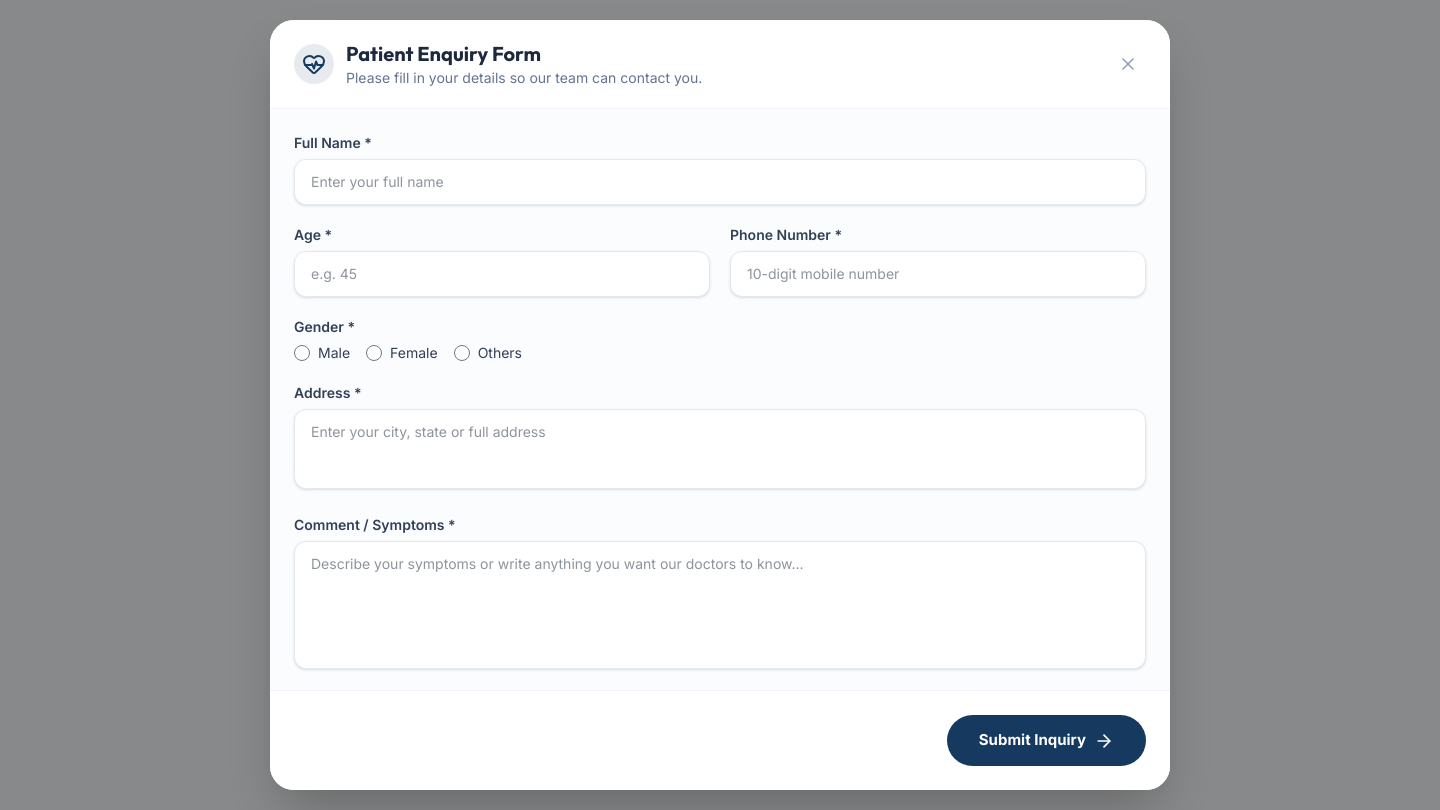
Test: PatientEnquiryForm submission › submits a valid enquiry to the real API and shows the reference number
Type "Meera Nair" into the field with placeholder "Enter your full name". click: (720,182)
box: [294, 159, 1146, 205]
Type "52" into the number field with placeholder "e.g. 45". click: (502,274)
box: [294, 251, 710, 297]
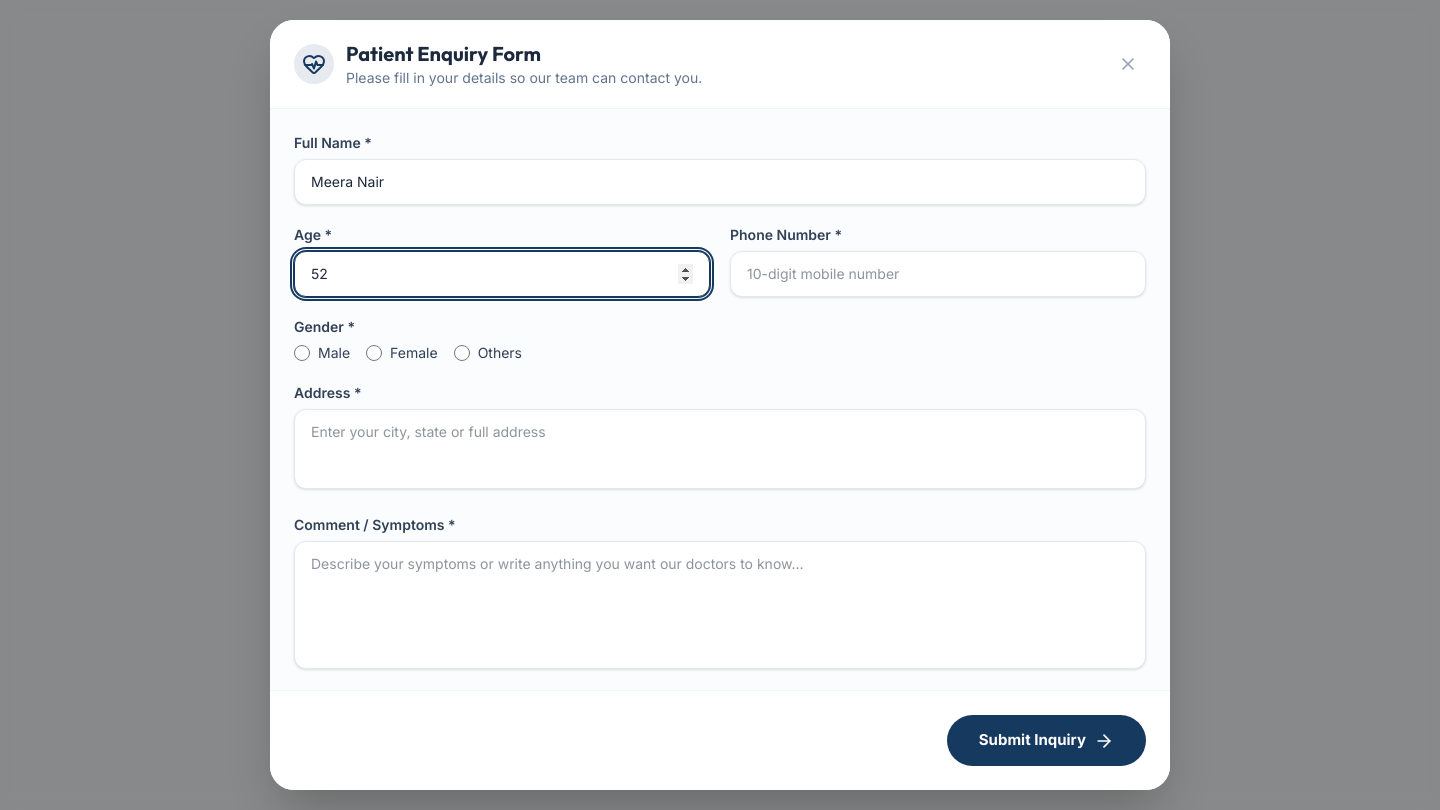
Click the radio button labelled "Female". click: (374,353)
box: [366, 345, 382, 361]
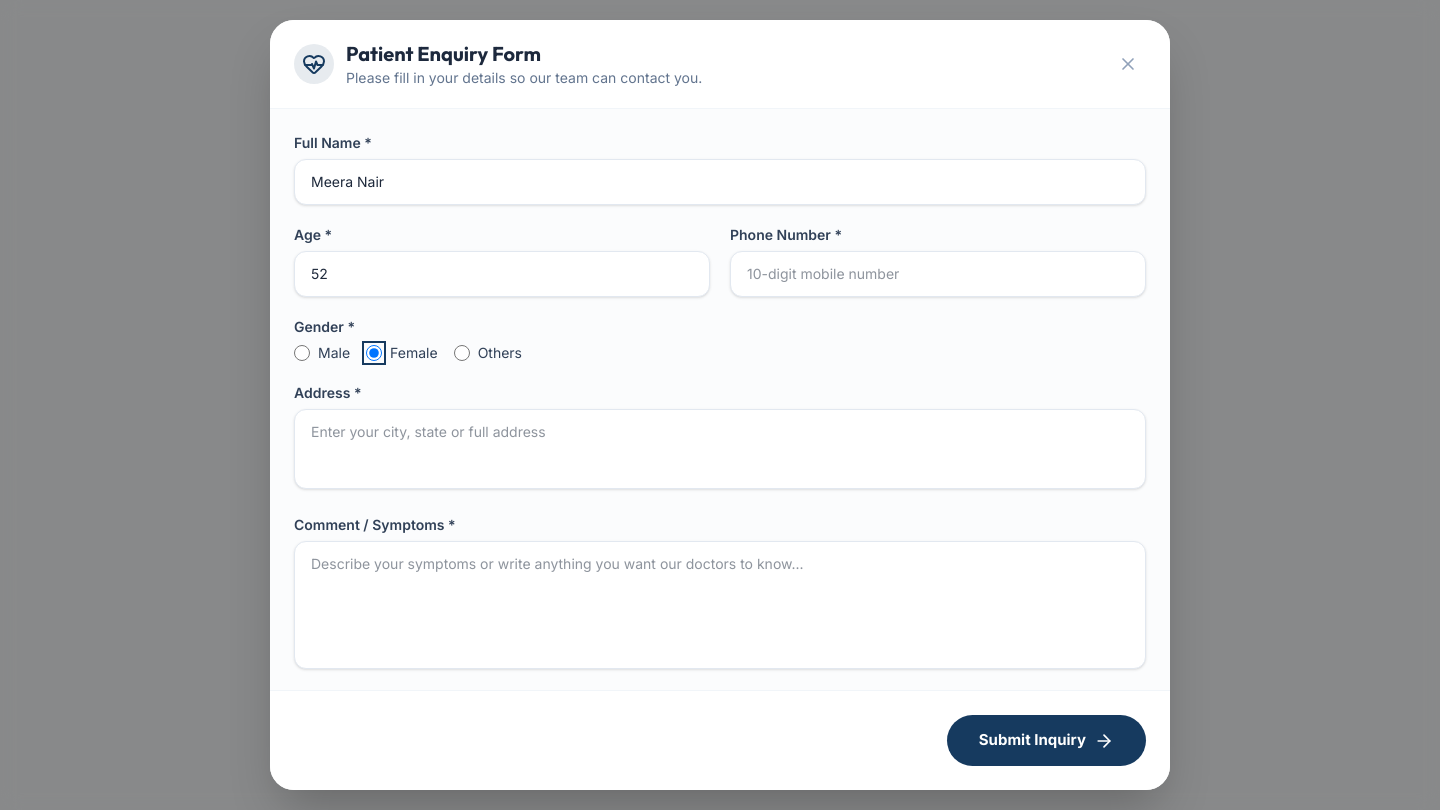
Type "9876543210" into the field with placeholder "10-digit mobile number". click: (938,274)
box: [730, 251, 1146, 297]
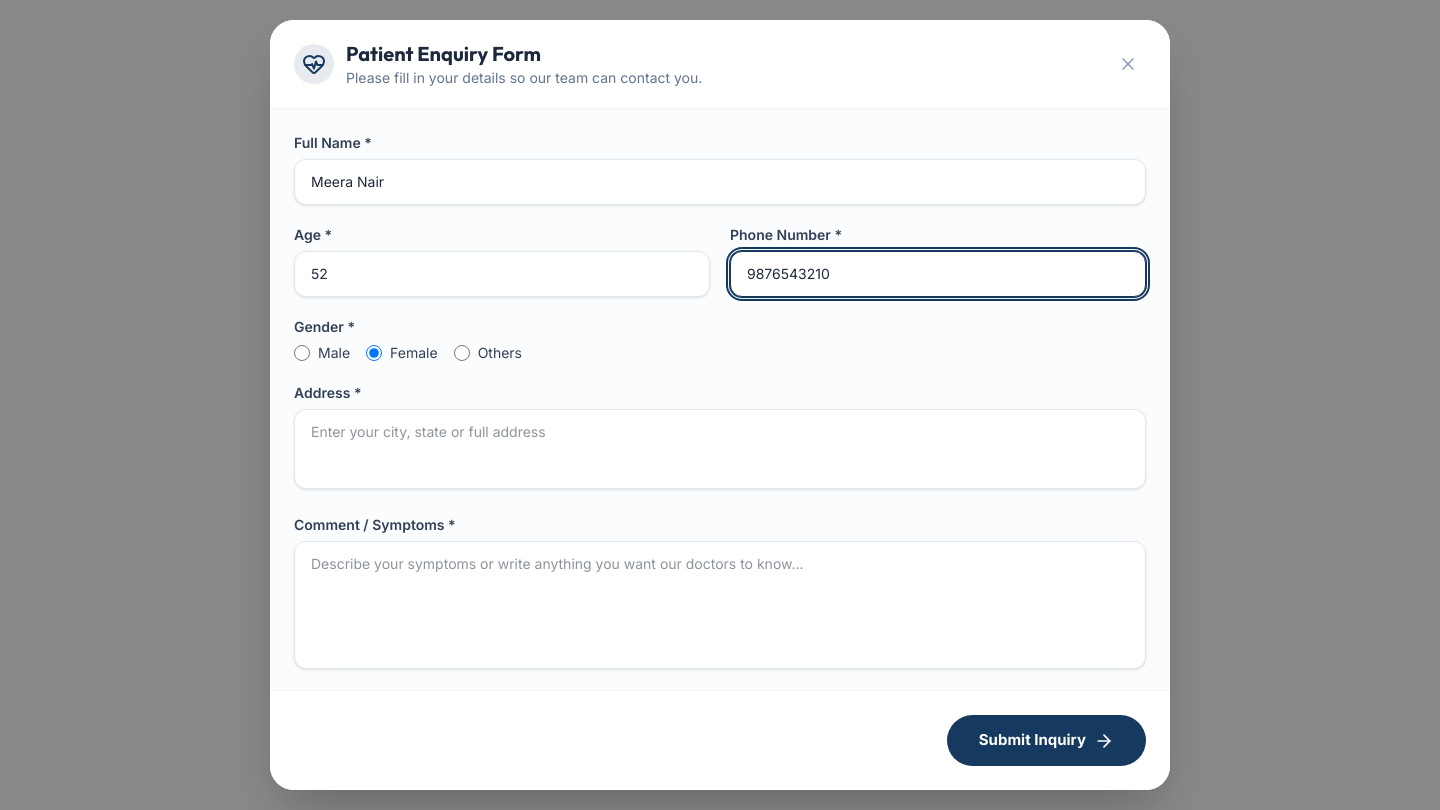
Type "Kochi, Kerala" into the text box with placeholder "Enter your city, state or full address". click: (720,449)
box: [294, 409, 1146, 489]
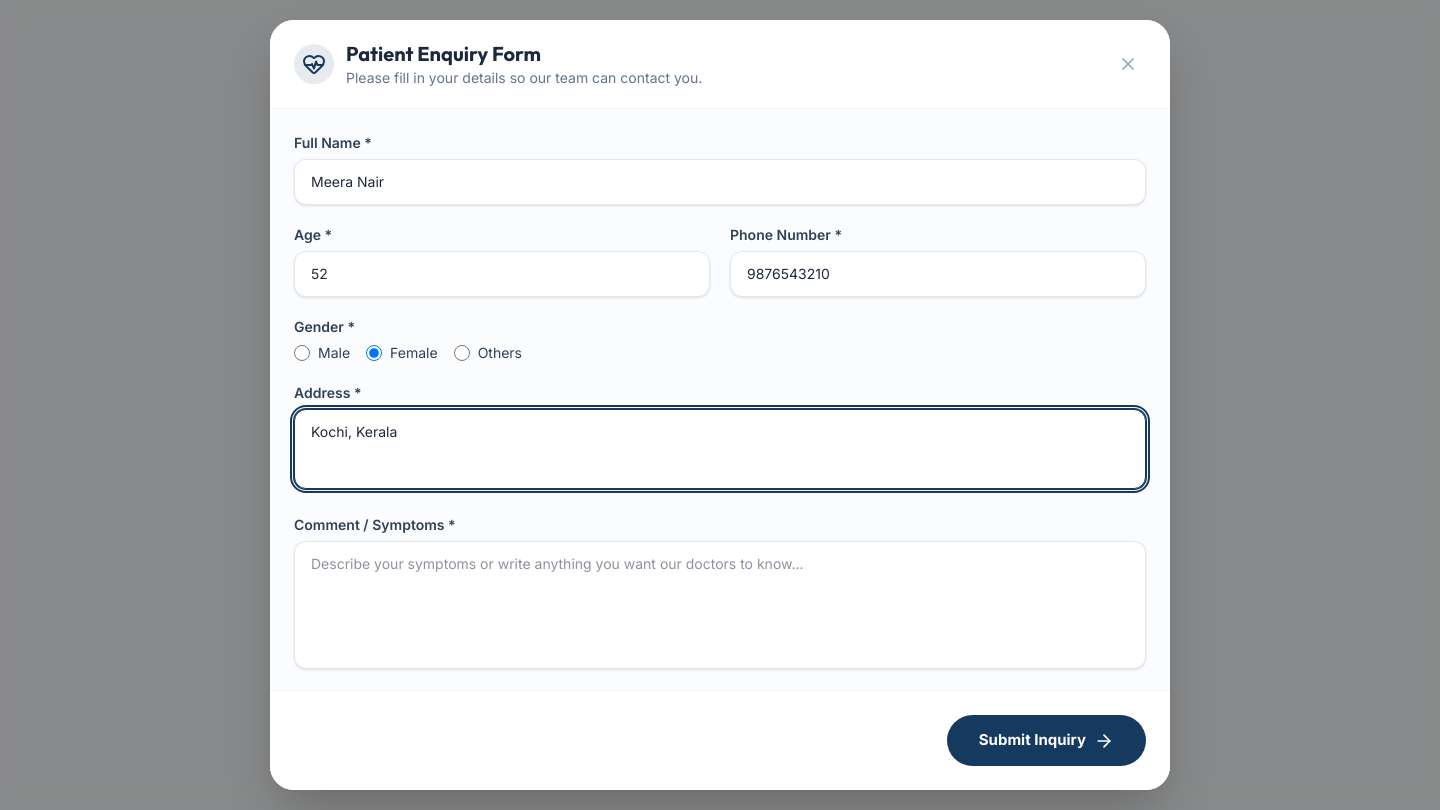
Type "Persistent cough for three weeks" into the text box with placeholder "Describe your symptoms". click: (720,605)
box: [294, 541, 1146, 669]
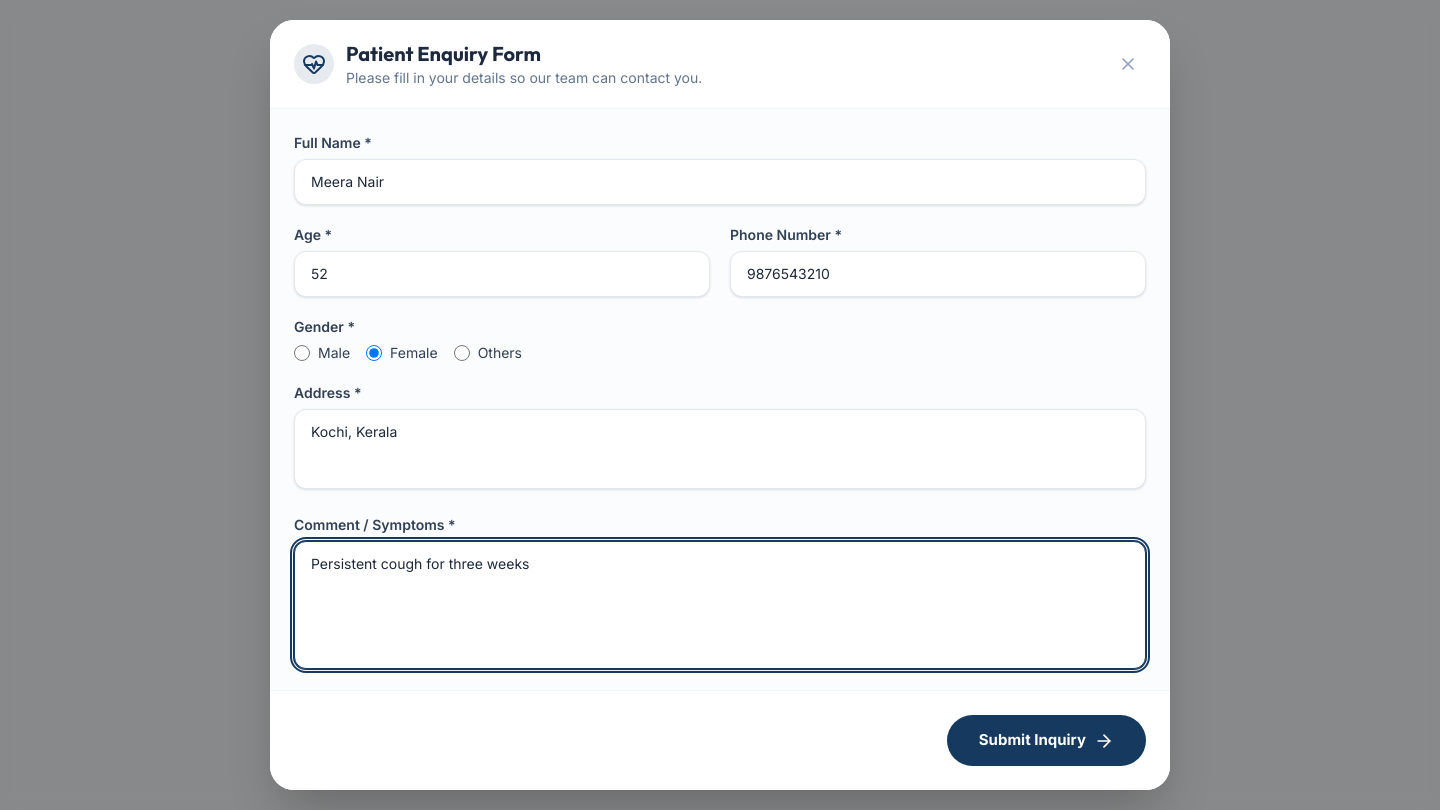
Click the button "Submit Inquiry". click: (1046,741)
box: [947, 715, 1146, 766]
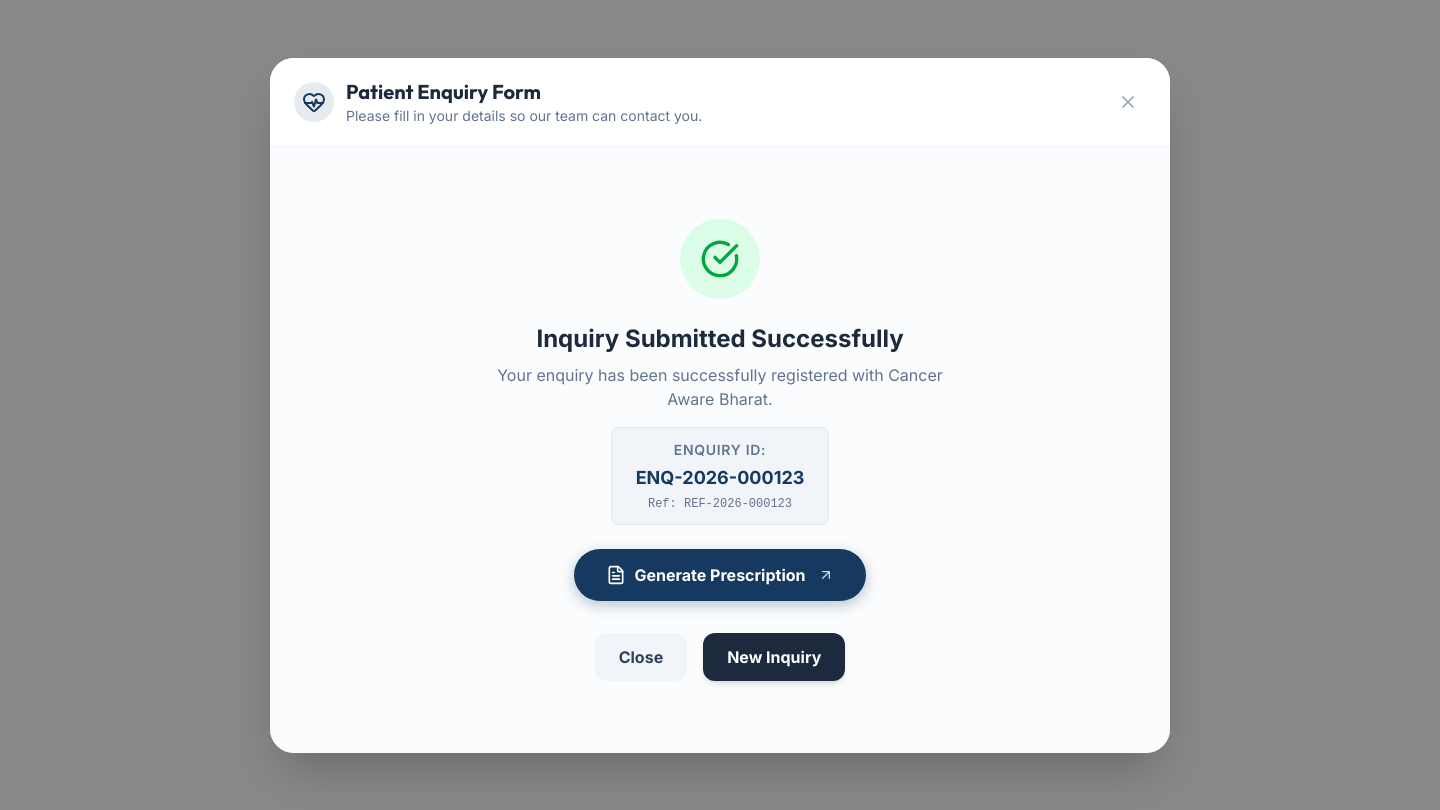
Check: the heading "Inquiry Submitted Successfully" is shown, box [536, 322, 904, 354]
Check: the text "ENQ-2026-000123" is shown, box [636, 466, 804, 488]
